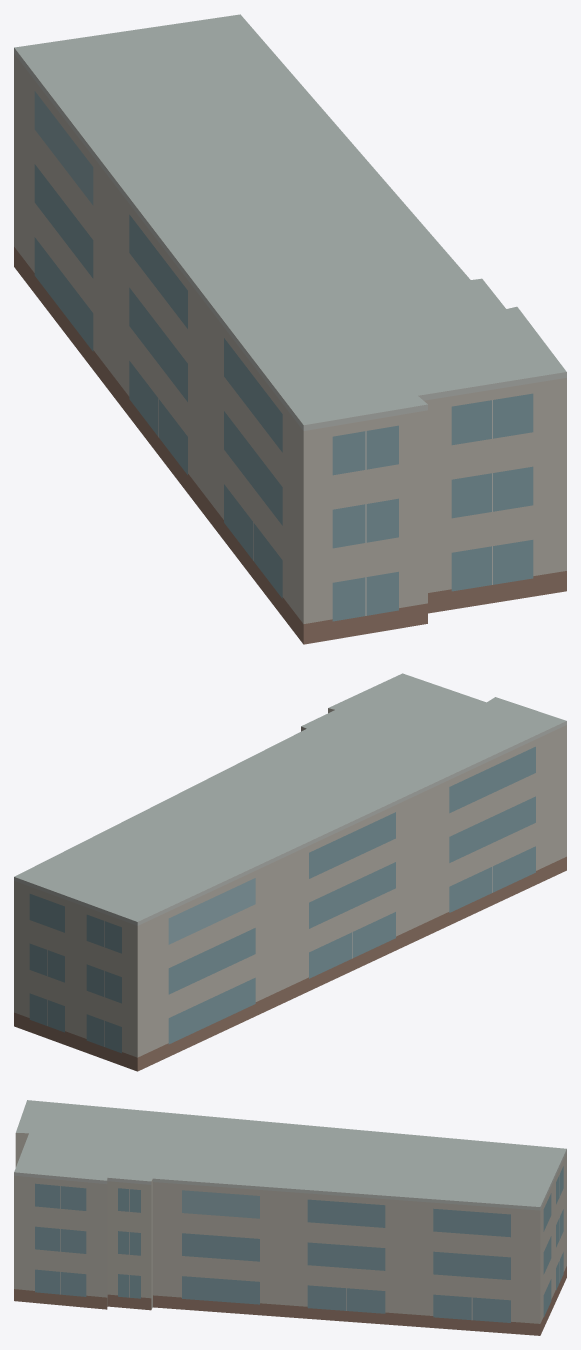
The model's file is survey-upis-32527422.glb.
3 views of the same model, one above another, from view 1: azimuth 30°, elevation 25°; view 2: azimuth 150°, elevation 25°; view 3: azimuth 270°, elevation 25° (orthographic). The views are drawn at different scales.
Parts seen in each view (by area): view 1: survey-upis-32527422.tmp; view 2: survey-upis-32527422.tmp; view 3: survey-upis-32527422.tmp.
Boxes of the visible parts, left/top/right/bottom form: survey-upis-32527422.tmp: left=14, top=14, right=566, bottom=644; survey-upis-32527422.tmp: left=14, top=673, right=566, bottom=1071; survey-upis-32527422.tmp: left=14, top=1100, right=566, bottom=1335.
Size of the model in its own units: 16.33 by 9.15 by 35.61.
